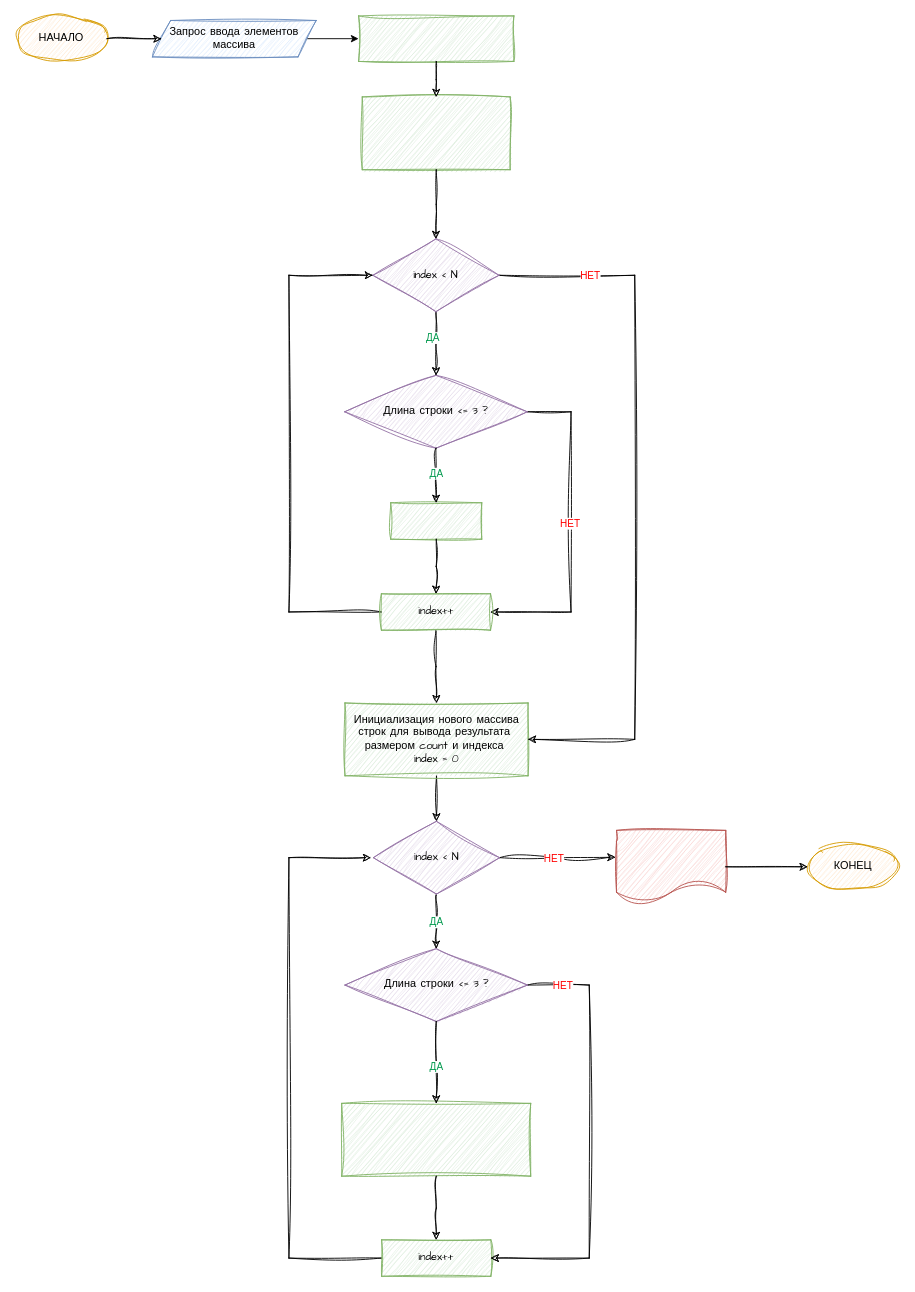
Some shapes in this 915 by 1292 pixel diagram are drawn without their labels. Here are the shapes that lost their labels. From the top down, the box of each, then its label:
(358, 15, 514, 61): Разделение введенной строки на массив строк
(361, 96, 510, 170): Инициализация переменной для подсчета подходящих строк count = 0
(390, 502, 482, 539): count ++
(616, 829, 726, 903): Вывод результата на экран
(341, 1102, 531, 1176): Добавить в результатирующий массив проверенную строку
